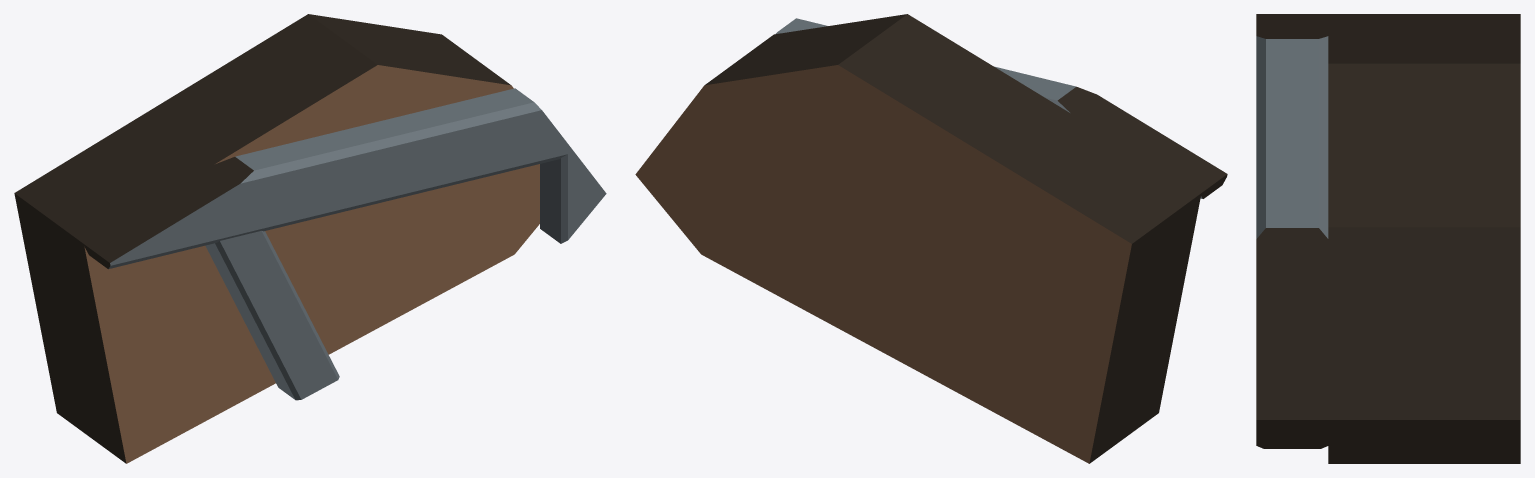
Rendered from SM_DoorShard_02_09.fbx.
The picture shows the model from 3 angles, left to right: view 1: azimuth 30°, elevation 25°; view 2: azimuth 150°, elevation 25°; view 3: azimuth 270°, elevation 25°; orthographic projection. The views are drawn at different scales.
Visible parts, largest first — view 1: SM_DoorShard_02_09; view 2: SM_DoorShard_02_09; view 3: SM_DoorShard_02_09.
Boxes of the visible parts, x1,y1,x2,y2 form: SM_DoorShard_02_09: [14, 14, 606, 463]; SM_DoorShard_02_09: [635, 14, 1227, 463]; SM_DoorShard_02_09: [1256, 14, 1520, 463].
Size of the model in its own units: 65.94 by 22 by 42.85.
